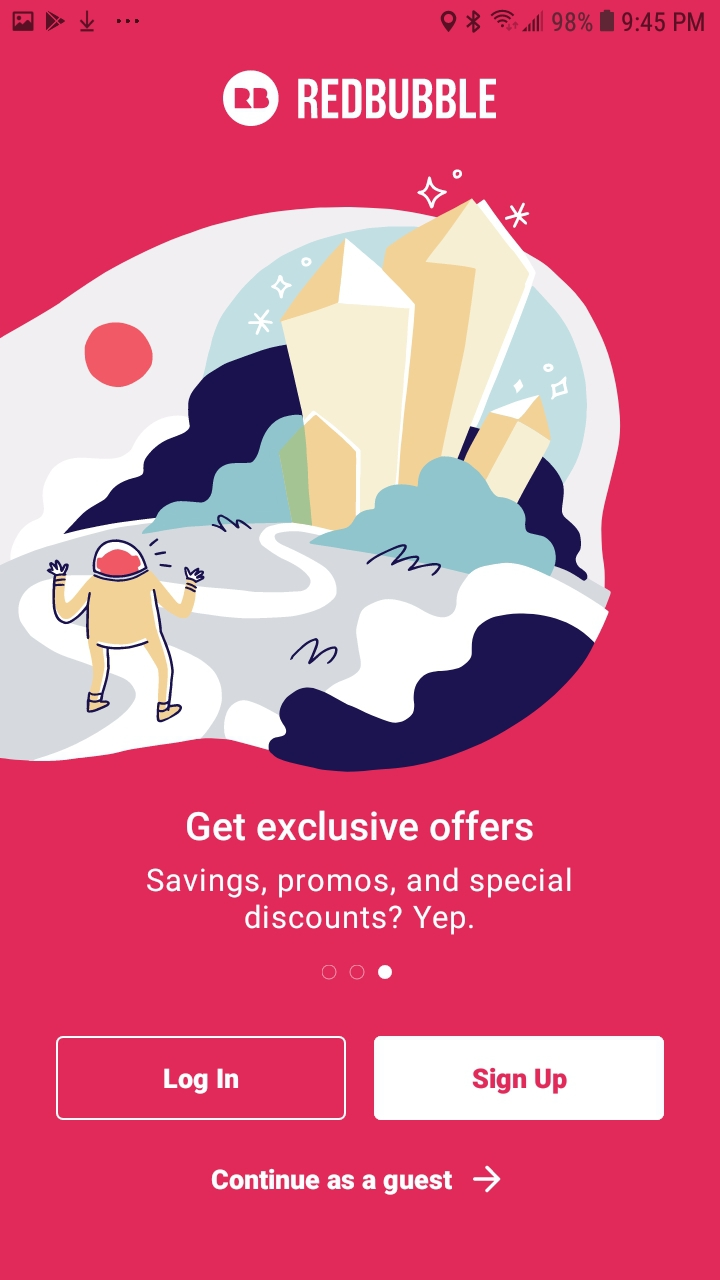Icon: (472, 1165, 501, 1193)
Image: (1, 169, 622, 773), (222, 70, 280, 128)
PageIndicator: (322, 964, 394, 981)
Text: (147, 866, 572, 936), (186, 809, 534, 842), (297, 79, 497, 121), (212, 1168, 454, 1197)
TextButton: (56, 1035, 347, 1121), (374, 1036, 665, 1121)
UpperTaskBar: (1, 1, 719, 36)
